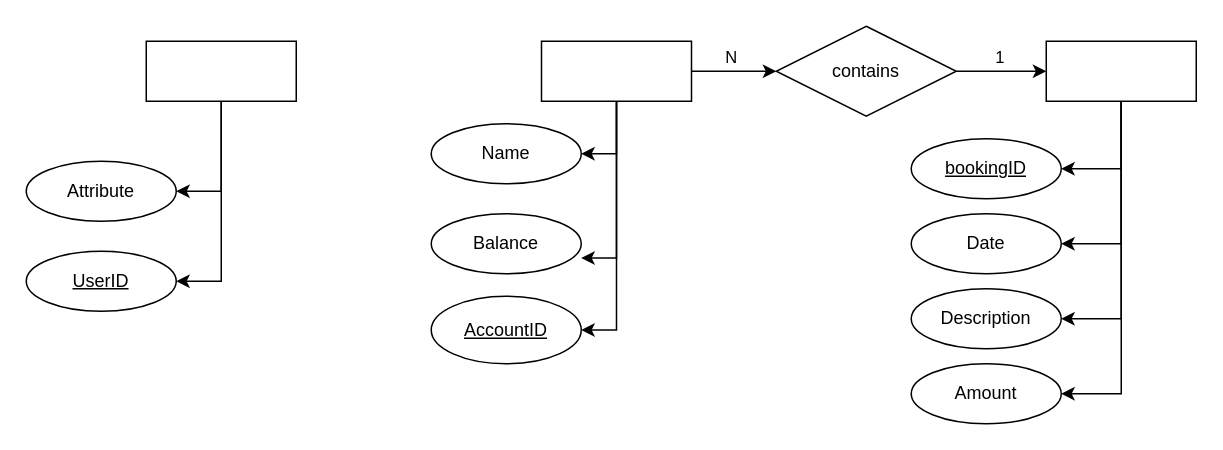
Some shapes in this 1223 by 450 pixel diagram are drawn without their labels. The centre of each missing label's shape, as x and y in pixels:
"account" goes at point 616,70.
"booking" goes at point 1120,70.
"user" goes at point 220,70.
